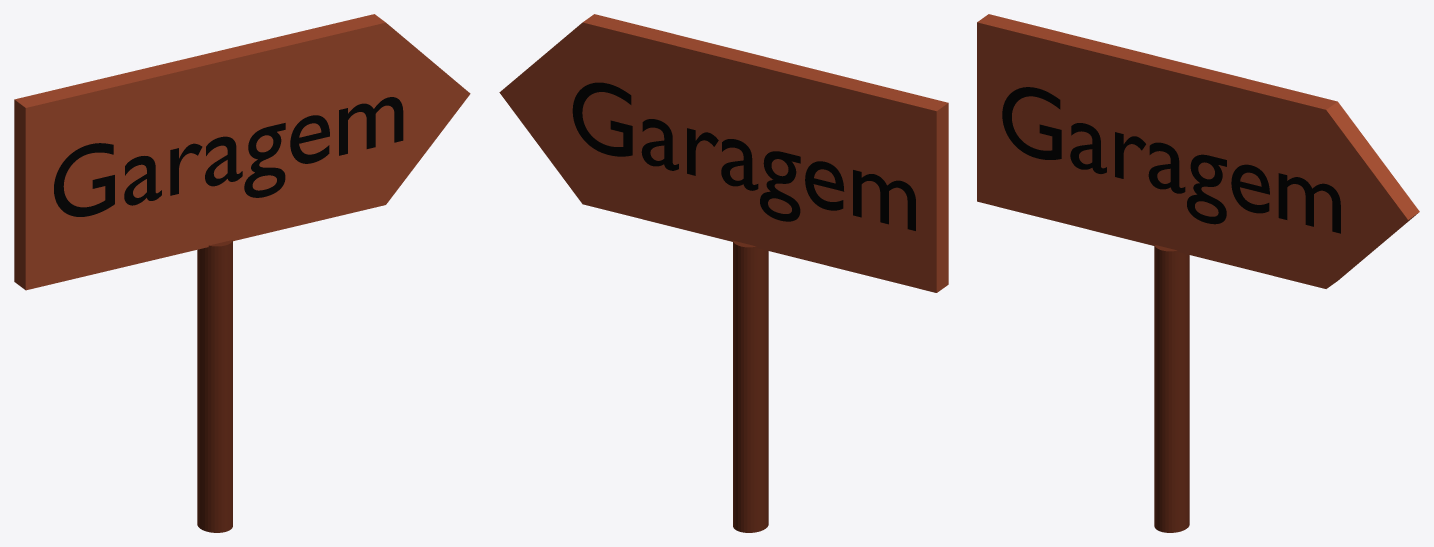
File: SetaGaragem.obj
3 renders of one model, left to right at view 1: azimuth 30°, elevation 25°; view 2: azimuth 150°, elevation 25°; view 3: azimuth 330°, elevation 25°, orthographic.
Visible parts, largest first — view 1: SetaGaragem; view 2: SetaGaragem; view 3: SetaGaragem.
Part boxes in pixels (left/top/right/bottom): SetaGaragem: left=14, top=14, right=470, bottom=532; SetaGaragem: left=499, top=14, right=948, bottom=532; SetaGaragem: left=977, top=14, right=1419, bottom=532.
Size of the model in its own units: 2.04 by 2.06 by 0.1568.
